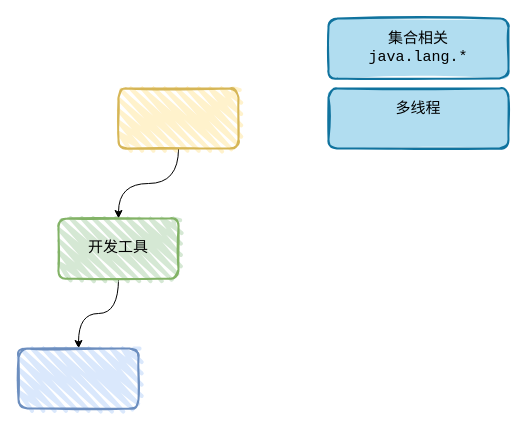
The diagram is 526 pixels wide and 426 high, and some of its shapes have lost their labels. Each missing label, with the centre of its shape:
"Java基础" goes at (178,118).
"业界框架" goes at (78,378).
